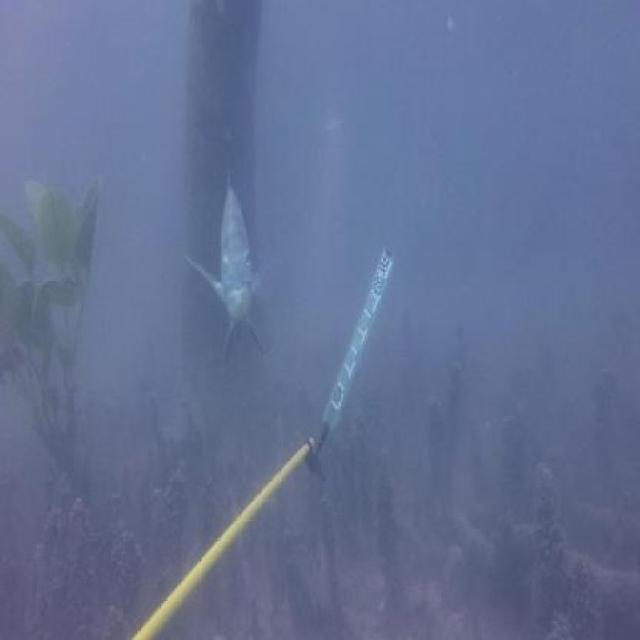acanthopagrus_palmaris: (186, 162, 299, 368)
